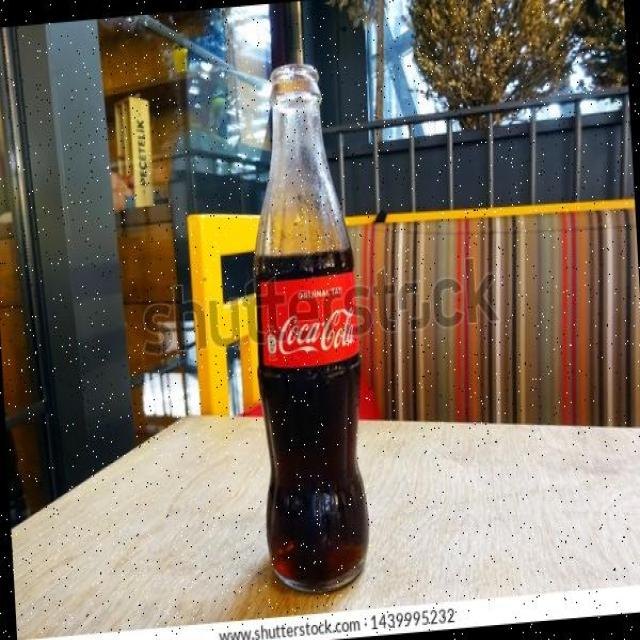coca-cola: (232, 52, 381, 602)
